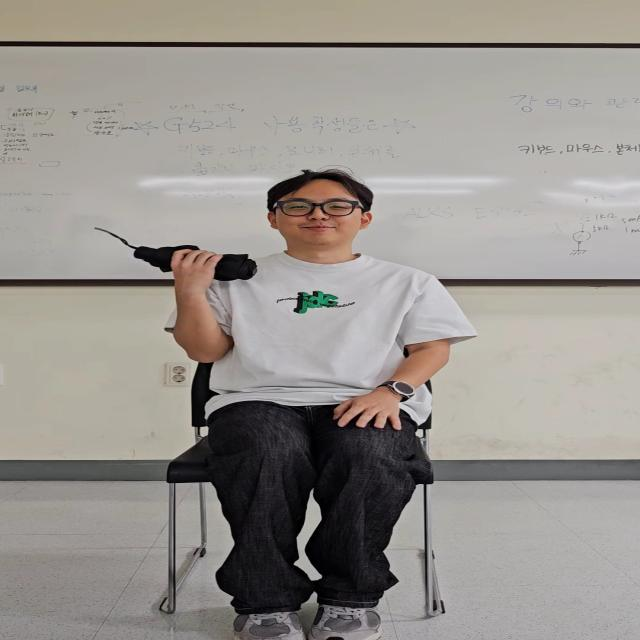curl: (153, 260, 232, 364)
